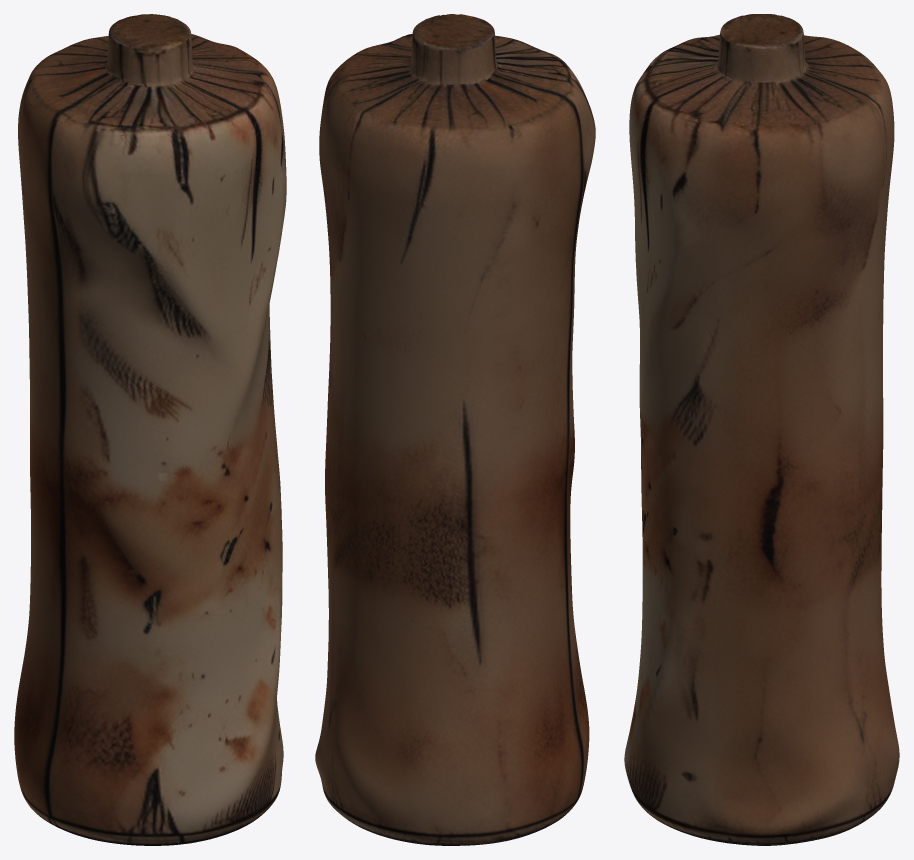
The model's file is catalog-field-throw-5.glb.
The picture shows the model from 3 angles, left to right: view 1: azimuth 30°, elevation 25°; view 2: azimuth 150°, elevation 25°; view 3: azimuth 270°, elevation 25°; orthographic projection.
Visible parts, largest first — view 1: tmpdj6rpq24.ply; view 2: tmpdj6rpq24.ply; view 3: tmpdj6rpq24.ply.
Boxes of the visible parts, <box> form: tmpdj6rpq24.ply: <box>14,14,286,845</box>; tmpdj6rpq24.ply: <box>315,14,595,845</box>; tmpdj6rpq24.ply: <box>624,14,899,845</box>.
Bounding box in the file's own units: 0.6312 × 1.96 × 0.6366.
1 material, 1 textured.
